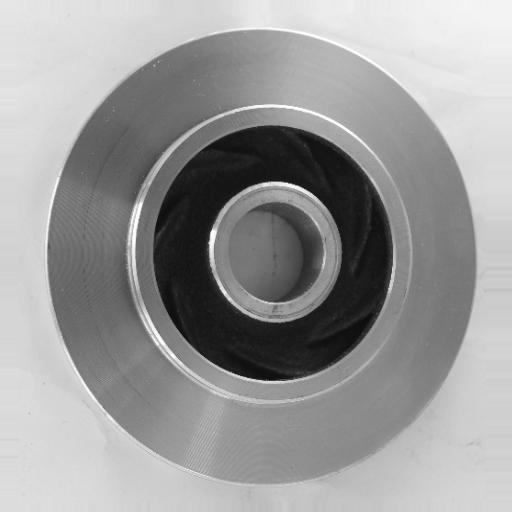polished_casting: (43, 27, 474, 488)
